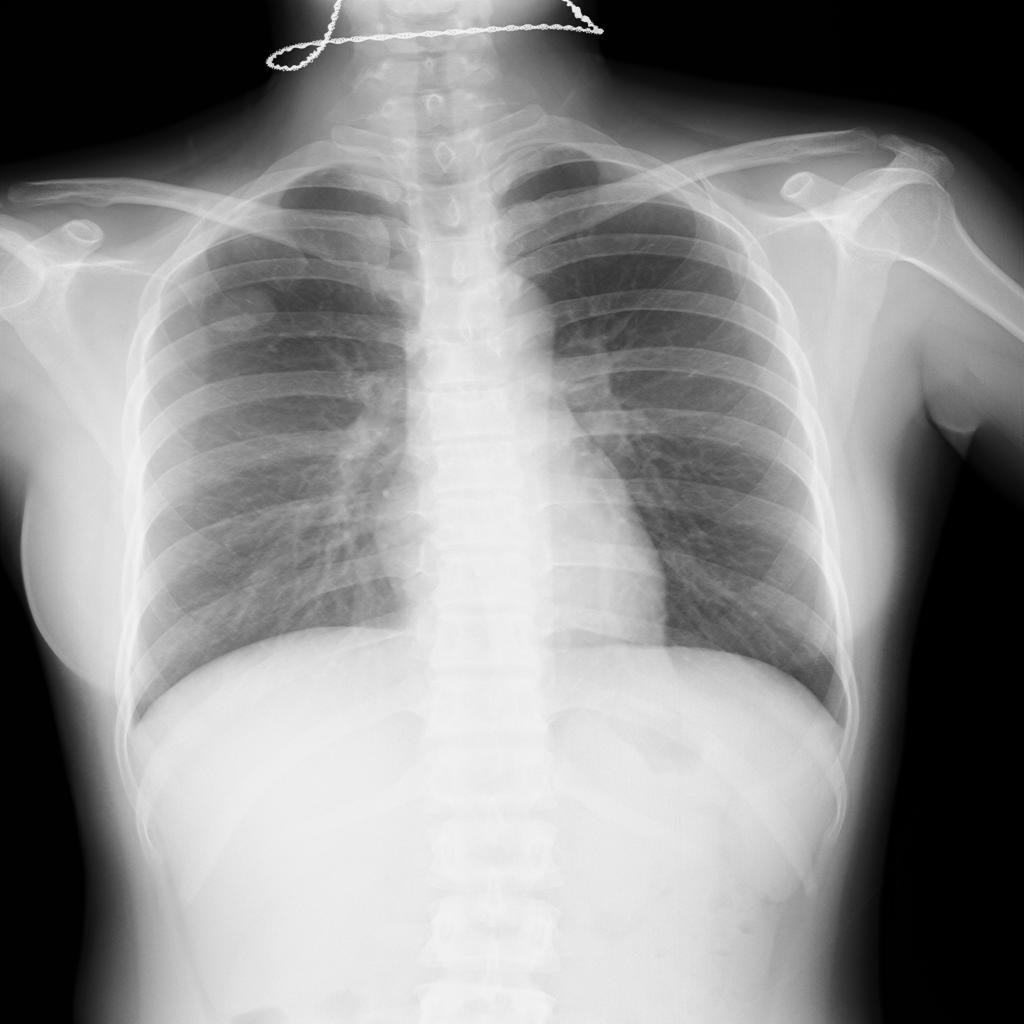Nodule: (208, 288, 278, 335)
